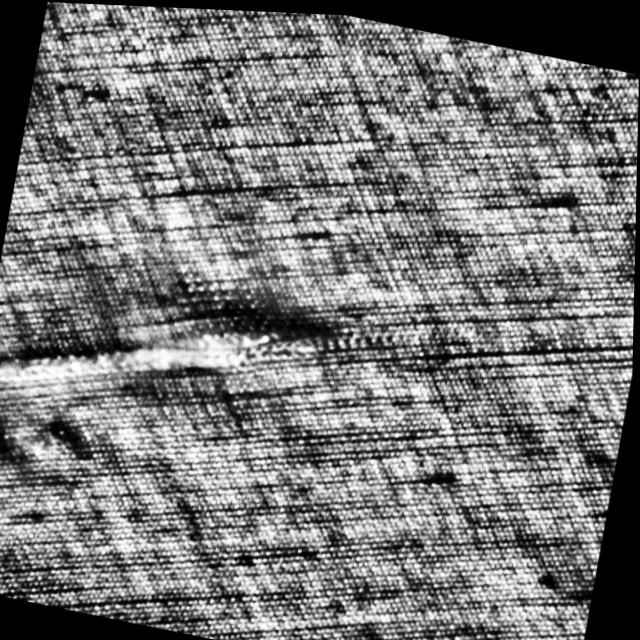Stitch: (0, 249, 363, 457)
